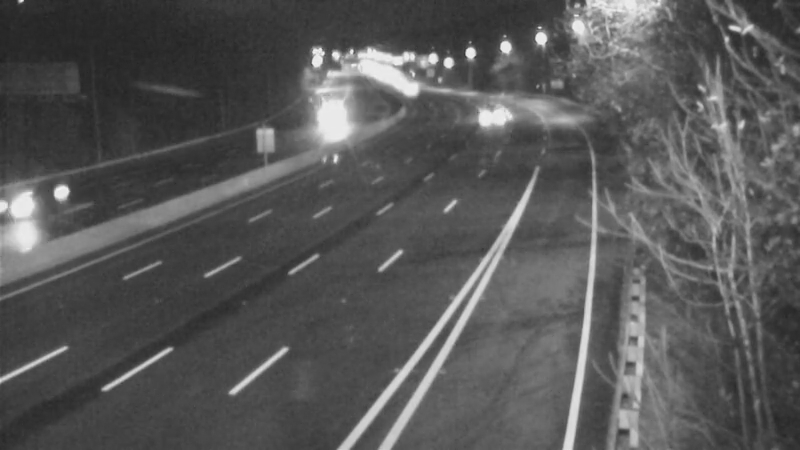vehicle: (1, 162, 78, 242), (468, 86, 518, 136), (306, 94, 356, 144)
